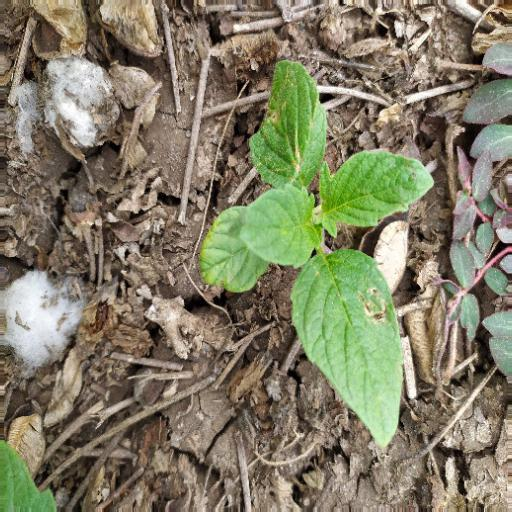crop: (188, 44, 415, 451)
